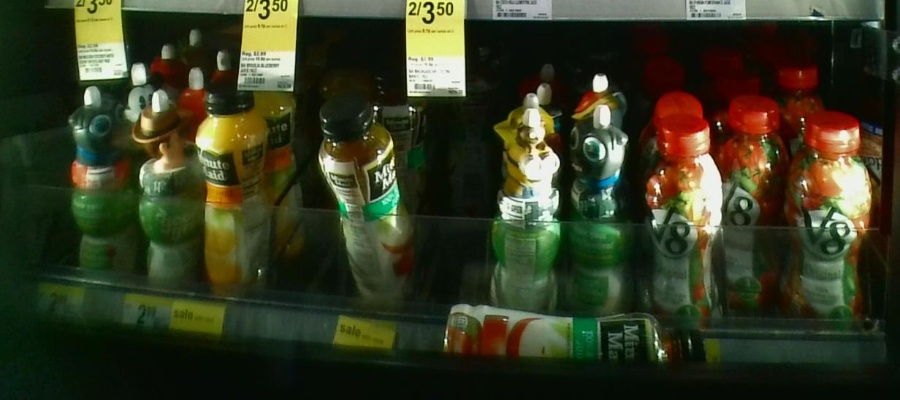bottle: (319, 97, 416, 324), (791, 109, 874, 329), (649, 119, 726, 322), (131, 74, 199, 299), (63, 80, 130, 294), (201, 79, 264, 301), (566, 104, 629, 315), (493, 113, 560, 311), (728, 95, 784, 318)
